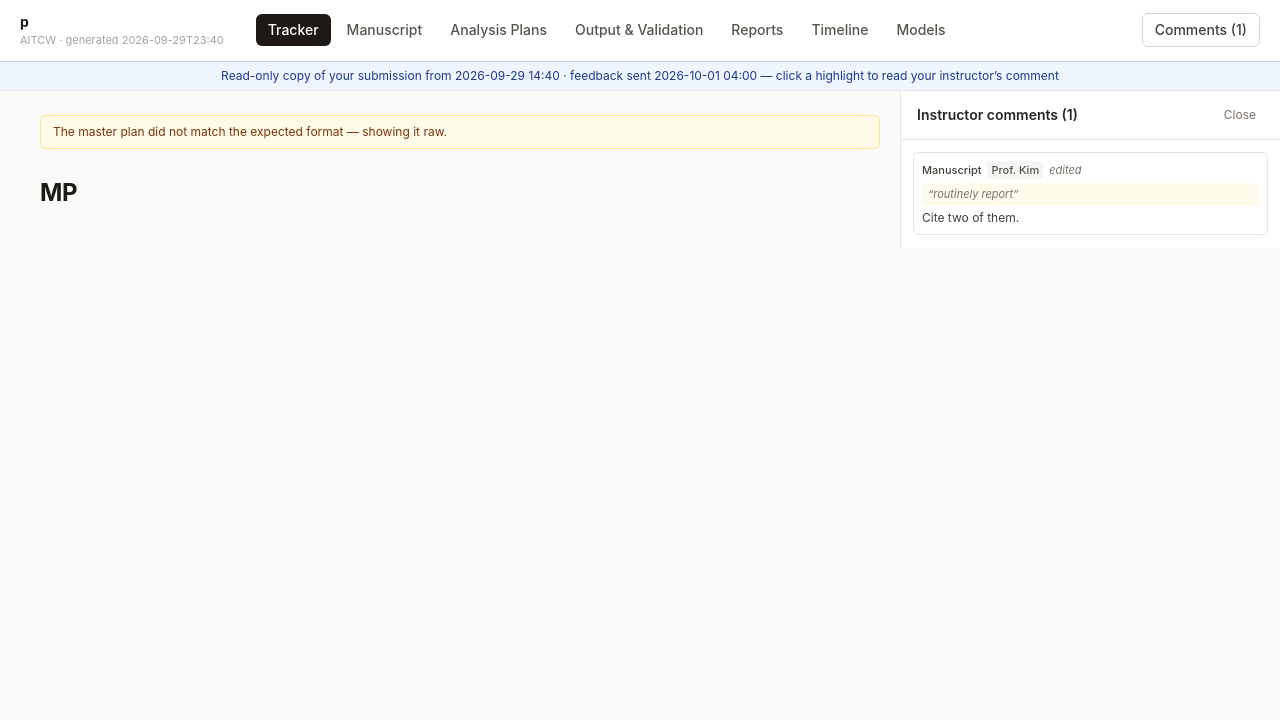
Test: snapshot (history) board › paints released comments read-only and offers no way to comment
The image size is (1280, 720).
Check: the text "Read-only copy of your submission" is shown, box [221,68,455,82]
Check: the heading "Instructor comments (1)" is shown, box [917,104,1078,124]
Click the button "Manuscript". click: (384, 30)
box: [335,14,434,46]
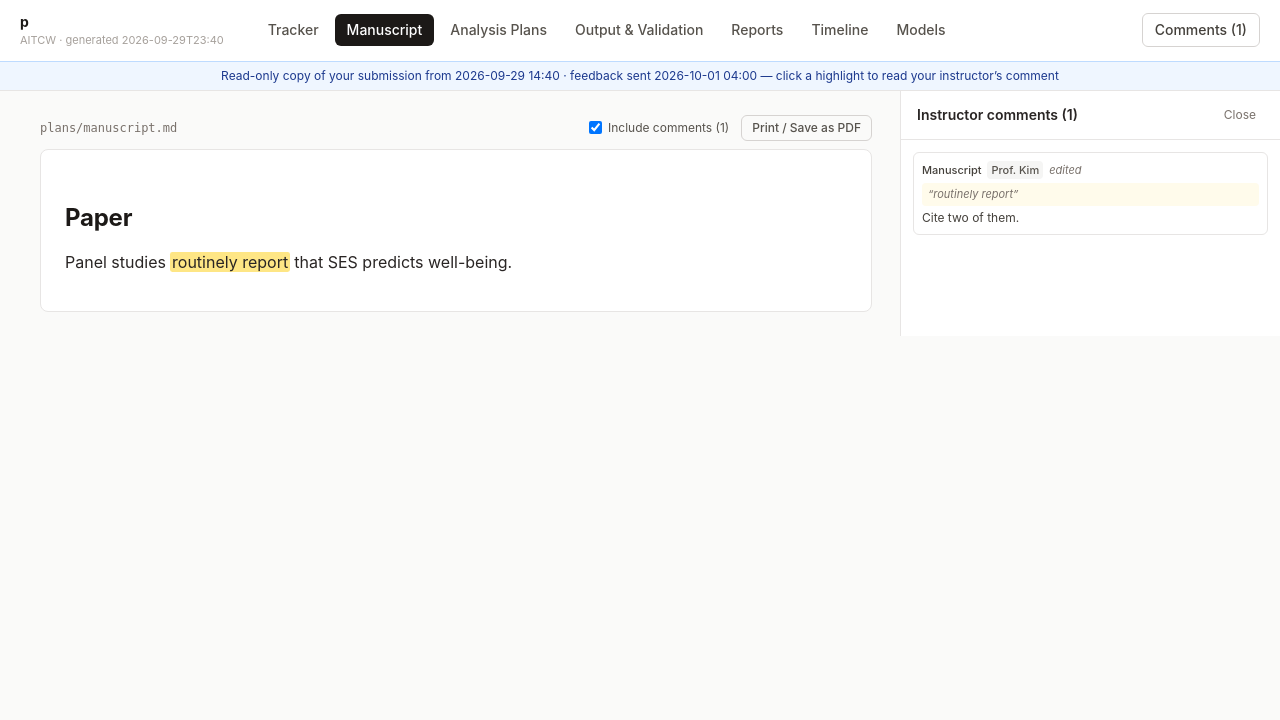
Click the text "routinely report". click: (230, 262)
box: [170,252,290,272]
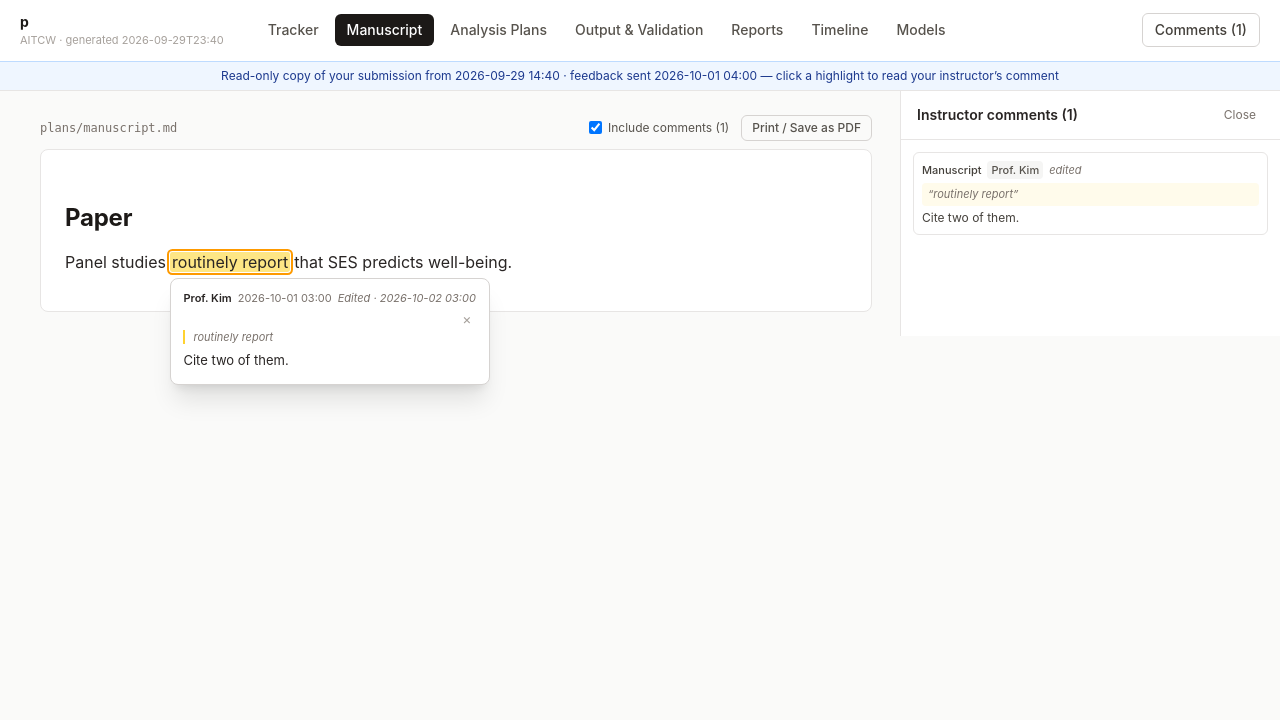
Check: the dialog named "Comment" shows "Cite two of them.", box [184,352,289,368]
Check: the dialog named "Comment" shows "Edited", box [338,291,380,305]
